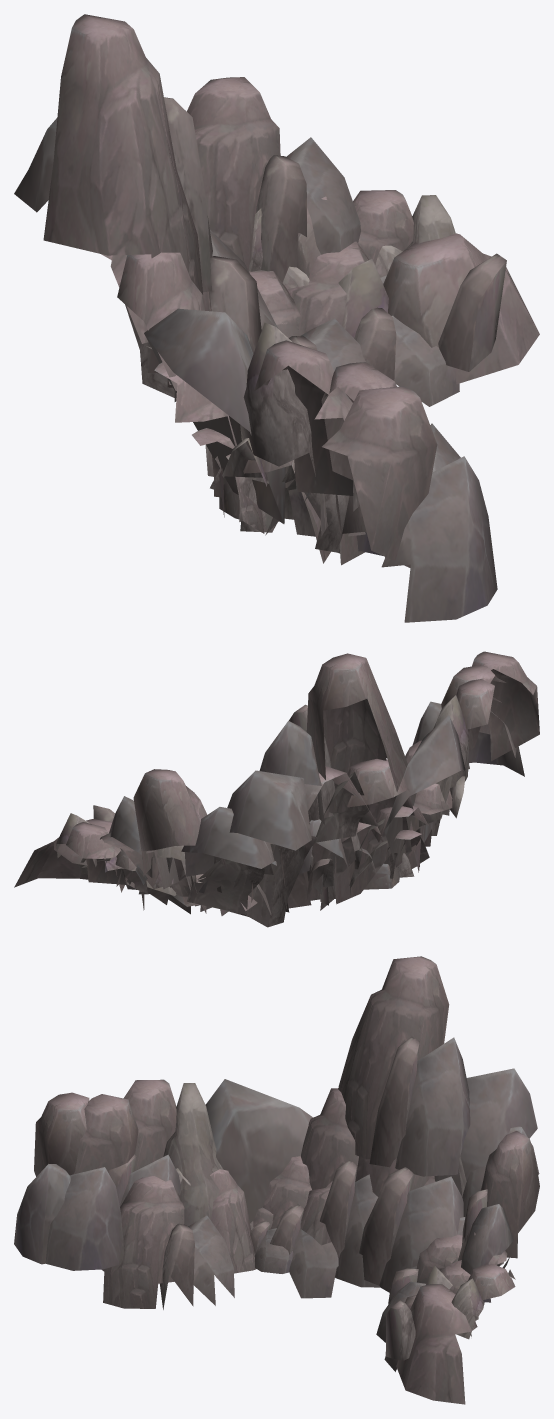
The model's file is area_13_9.fbx.
3 views of the same model, one above another, from view 1: azimuth 30°, elevation 25°; view 2: azimuth 150°, elevation 25°; view 3: azimuth 270°, elevation 25° (orthographic). The views are drawn at different scales.
Parts seen in each view (by area): view 1: area_13_9; view 2: area_13_9; view 3: area_13_9.
Part boxes in pixels (bbox=[...]): area_13_9: bbox=[14, 14, 539, 622]; area_13_9: bbox=[14, 651, 539, 927]; area_13_9: bbox=[14, 956, 539, 1404].
Size of the model in its own units: 53.12 by 43.86 by 67.49.
